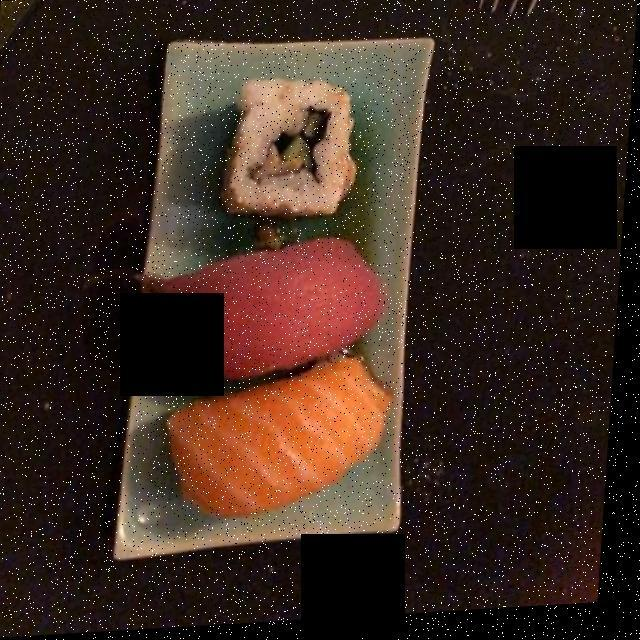sushi: (158, 78, 386, 515)
